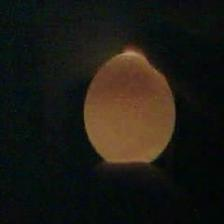infertile: (81, 48, 179, 166)
